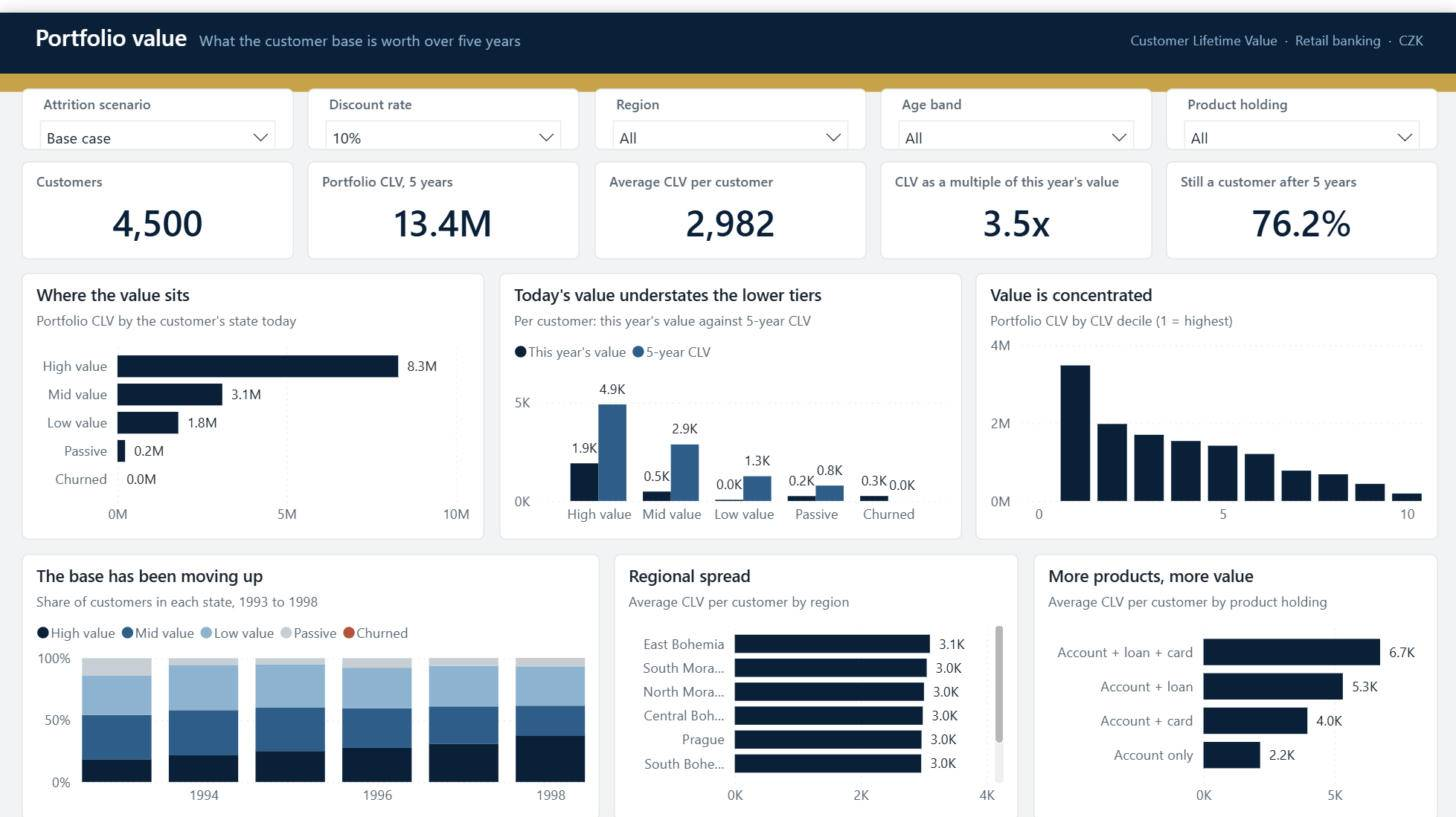

What the dashboard file says about the page in this screenshot:
{"tool":"powerbi","page":{"name":"Portfolio value","canvas":[1280,720],"ordinal":0},"visuals":[{"type":"textbox","box":[0,0,1280,54],"z":1000},{"type":"textbox","box":[0,54,1280,3],"z":2000},{"type":"textbox","box":[20,0,760,54],"z":3000},{"type":"textbox","box":[840,8,420,44],"z":4000},{"type":"slicer","fields":{"Values":["Scenario.Scenario"]},"box":[20,66,238.4,54],"z":5000},{"type":"slicer","fields":{"Values":["Discount Rate.Discount rate"]},"box":[270.4,66,238.4,54],"z":6000},{"type":"slicer","fields":{"Values":["Customer.Region"]},"box":[520.8,66,238.4,54],"z":7000},{"type":"slicer","fields":{"Values":["Customer.Age band"]},"box":[771.2,66,238.4,54],"z":8000},{"type":"slicer","fields":{"Values":["Customer.Product holding"]},"box":[1021.6,66,238.4,54],"z":9000},{"type":"card","title":"Customers","fields":{"Values":["Key Measures.Customers"]},"box":[20,130,238.4,86],"z":10000},{"type":"card","title":"Portfolio CLV, 5 years","fields":{"Values":["Key Measures.CLV"]},"box":[270.4,130,238.4,86],"z":11000},{"type":"card","title":"Average CLV per customer","fields":{"Values":["Key Measures.Average CLV"]},"box":[520.8,130,238.4,86],"z":12000},{"type":"card","title":"CLV as a multiple of this year''s value","fields":{"Values":["Key Measures.CLV multiple"]},"box":[771.2,130,238.4,86],"z":13000},{"type":"card","title":"Still a customer after 5 years","fields":{"Values":["Key Measures.Retention after 5 years"]},"box":[1021.6,130,238.4,86],"z":14000},{"type":"clusteredBarChart","title":"Where the value sits","fields":{"Category":["Customer.Current state"],"Y":["Key Measures.CLV"]},"box":[20,228,405.3,234],"z":15000},{"type":"clusteredColumnChart","title":"Today''s value understates the lower tiers","fields":{"Category":["Customer.Current state"],"Y":["Key Measures.Average current value","Key Measures.Average CLV"]},"box":[437.3,228,405.3,234],"z":16000},{"type":"clusteredColumnChart","title":"Value is concentrated","fields":{"Category":["Customer.CLV decile"],"Y":["Key Measures.CLV"]},"box":[854.7,228,405.3,234],"z":17000},{"type":"hundredPercentStackedColumnChart","title":"The base has been moving up","fields":{"Category":["Calendar Year.Year"],"Series":["State.State"],"Y":["Key Measures.Customers with a state"]},"box":[20,474,506.7,234],"z":18000},{"type":"clusteredBarChart","title":"Regional spread","fields":{"Category":["Customer.Region"],"Y":["Key Measures.Average CLV"]},"box":[538.7,474,354.7,234],"z":19000},{"type":"clusteredBarChart","title":"More products, more value","fields":{"Category":["Customer.Product holding"],"Y":["Key Measures.Average CLV"]},"box":[905.3,474,354.7,234],"z":20000}]}

Visuals, with their boxes in screenshot pixels (x1, y1, x2, y2), scaled from the page's 1280x720 canvas onto the 1456x817 screenshot:
textbox: BBox(0, 0, 1455, 61)
textbox: BBox(0, 61, 1455, 65)
textbox: BBox(23, 0, 887, 61)
textbox: BBox(956, 9, 1433, 59)
slicer - Scenario.Scenario: BBox(23, 75, 294, 136)
slicer - Discount Rate.Discount rate: BBox(308, 75, 579, 136)
slicer - Customer.Region: BBox(592, 75, 864, 136)
slicer - Customer.Age band: BBox(877, 75, 1148, 136)
slicer - Customer.Product holding: BBox(1162, 75, 1433, 136)
"Customers" card: BBox(23, 148, 294, 245)
"Portfolio CLV, 5 years" card: BBox(308, 148, 579, 245)
"Average CLV per customer" card: BBox(592, 148, 864, 245)
"CLV as a multiple of this year''s value" card: BBox(877, 148, 1148, 245)
"Still a customer after 5 years" card: BBox(1162, 148, 1433, 245)
"Where the value sits" clusteredBarChart: BBox(23, 259, 484, 524)
"Today''s value understates the lower tiers" clusteredColumnChart: BBox(497, 259, 958, 524)
"Value is concentrated" clusteredColumnChart: BBox(972, 259, 1433, 524)
"The base has been moving up" hundredPercentStackedColumnChart: BBox(23, 538, 599, 803)
"Regional spread" clusteredBarChart: BBox(613, 538, 1016, 803)
"More products, more value" clusteredBarChart: BBox(1030, 538, 1433, 803)
